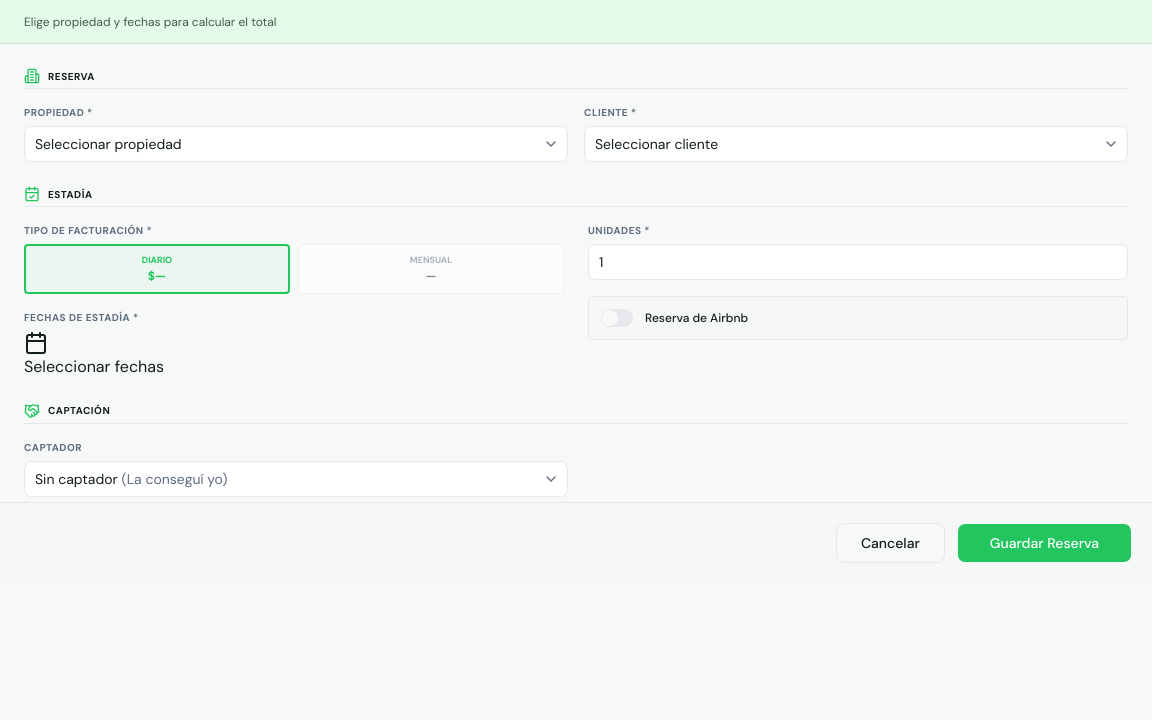
ReservationForm - Creación rápida de cliente › plan FREE con 5+ clientes muestra texto deshabilitado
This screenshot has width=1152, height=720.
Click the button "Seleccionar cliente": (657, 144) [584,126,1128,162]
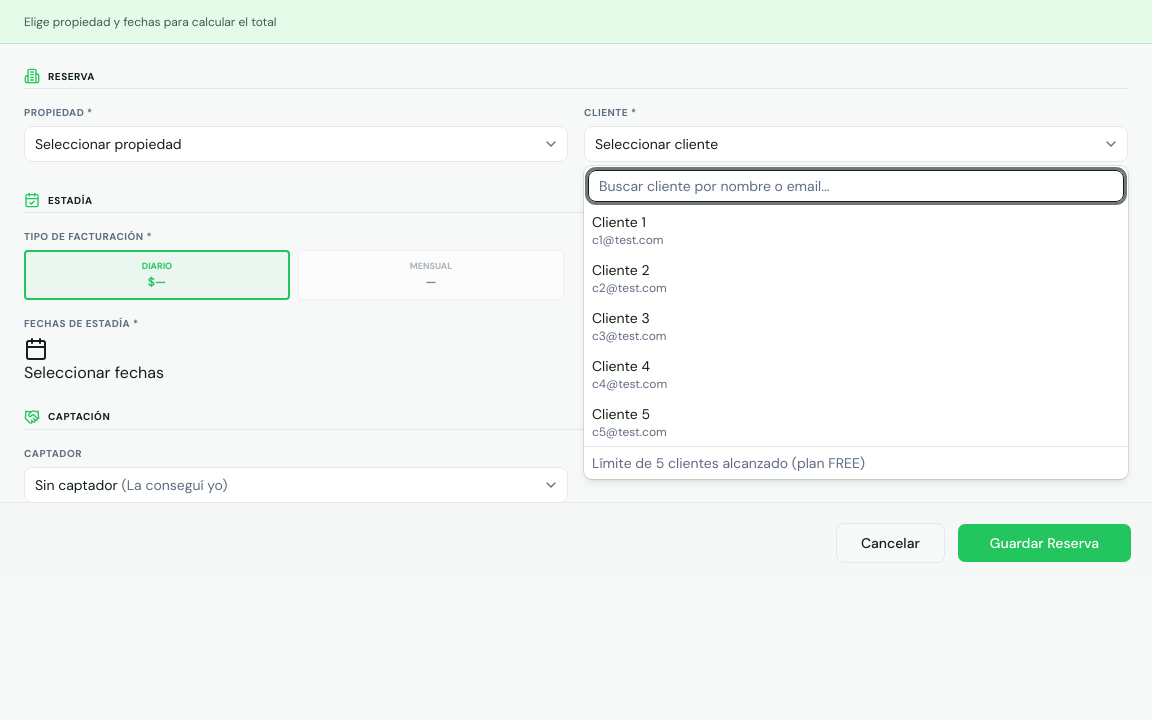
Result: the text "Límite de 5 clientes alcanzado (plan FREE)" is shown at [592,454,865,472]
